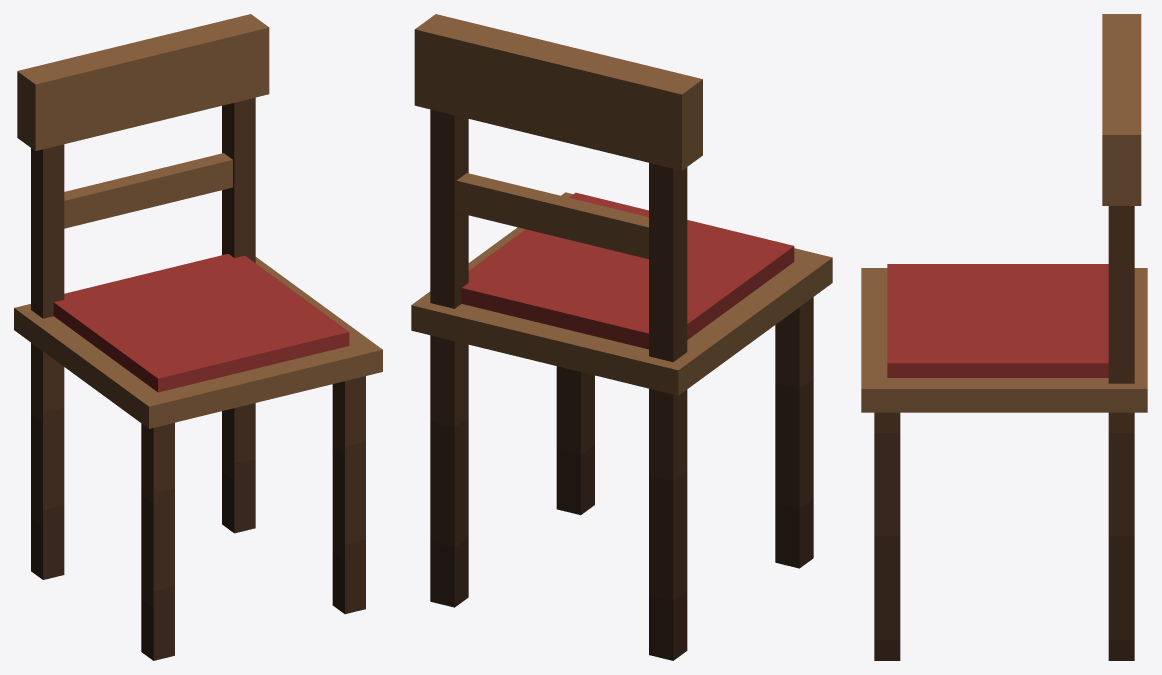
File: chair.glb
The picture shows the model from 3 angles, left to right: view 1: azimuth 30°, elevation 25°; view 2: azimuth 150°, elevation 25°; view 3: azimuth 270°, elevation 25°; orthographic projection. The views are drawn at different scales.
Size of the model in its own units: 0.44 by 0.9 by 0.44.
Materials: 1 (1 with a texture image).
